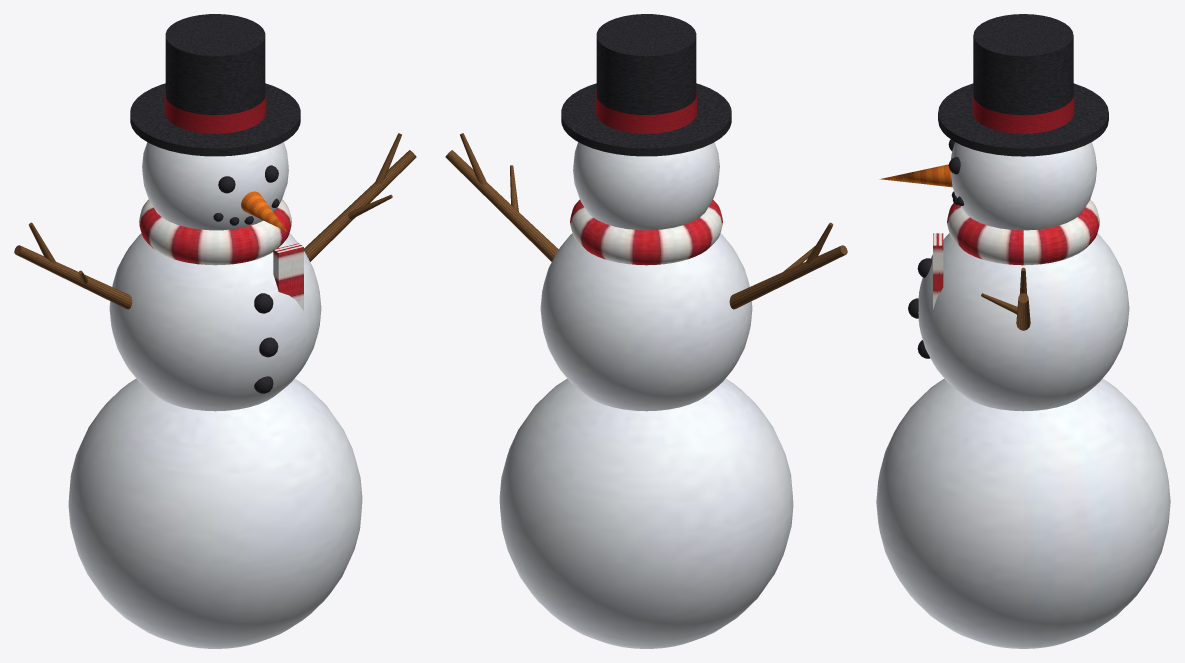
Rendered from snowman.obj.
The picture shows the model from 3 angles, left to right: view 1: azimuth 30°, elevation 25°; view 2: azimuth 150°, elevation 25°; view 3: azimuth 270°, elevation 25°; orthographic projection.
Parts seen in each view (by area): view 1: Snowman; view 2: Snowman; view 3: Snowman.
Part boxes in pixels (bbox=[...]): Snowman: bbox=[14, 14, 416, 648]; Snowman: bbox=[445, 14, 847, 648]; Snowman: bbox=[876, 14, 1170, 648].
Bounding box in the file's own units: 3.14 × 4.5 × 2.
1 material, 1 textured.
